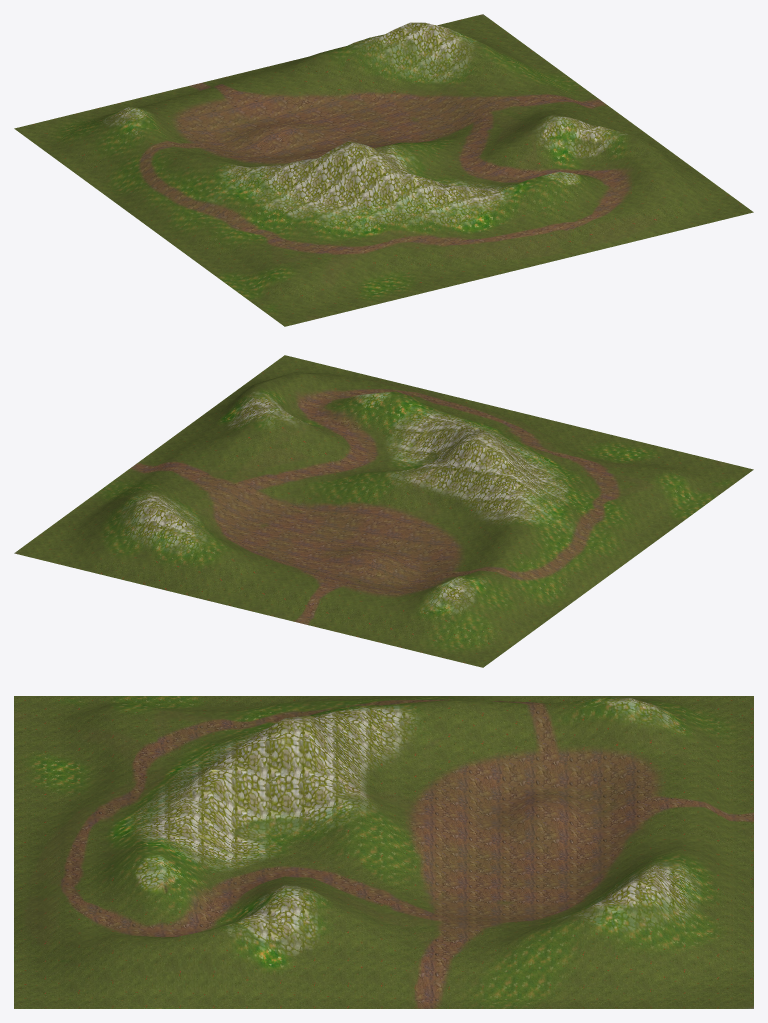
Rendered from terrain-smooth.glb.
The picture shows the model from 3 angles, top to bottom: view 1: azimuth 30°, elevation 25°; view 2: azimuth 150°, elevation 25°; view 3: azimuth 270°, elevation 25°; orthographic projection. The views are drawn at different scales.
Parts seen in each view (by area): view 1: Grid.000; view 2: Grid.000; view 3: Grid.000.
Boxes of the visible parts, x1=… form: Grid.000: x1=14, y1=14, x2=753, y2=326; Grid.000: x1=14, y1=355, x2=753, y2=667; Grid.000: x1=14, y1=696, x2=753, y2=1008.
Size of what is drawn, in the model's own units: 11.76 by 1.6 by 11.76.
1 material, 1 textured.
